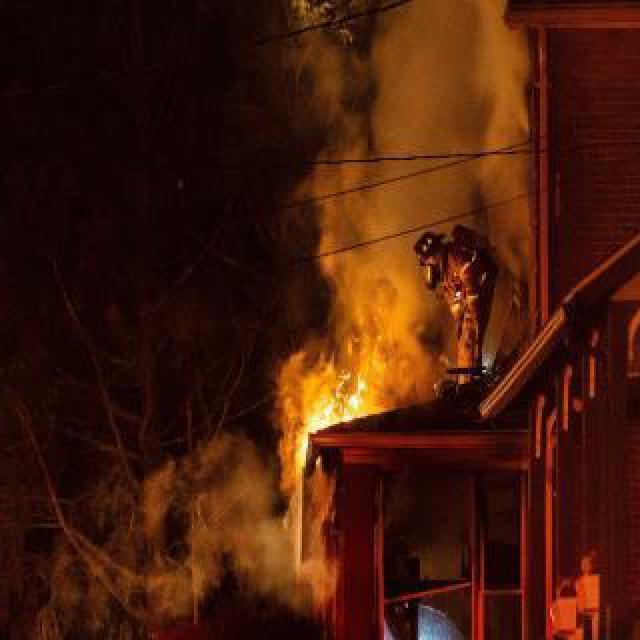Fire: (288, 384, 354, 484)
Smoke: (288, 46, 456, 334), (186, 420, 280, 606), (112, 446, 186, 638), (36, 484, 112, 638), (282, 486, 340, 616)
